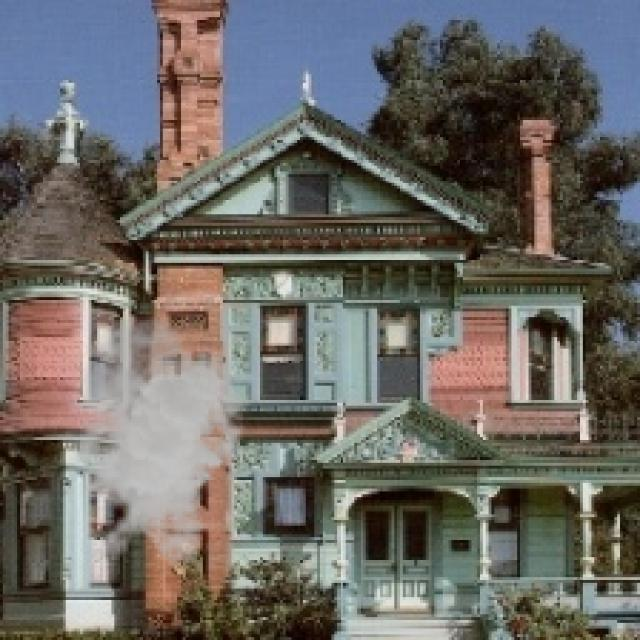smoke: (48, 314, 252, 569)
